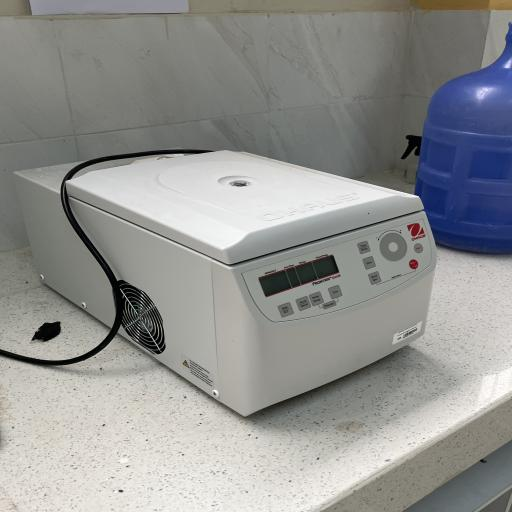Centrifuga_Ohaus_Frontier: (7, 139, 461, 426)
